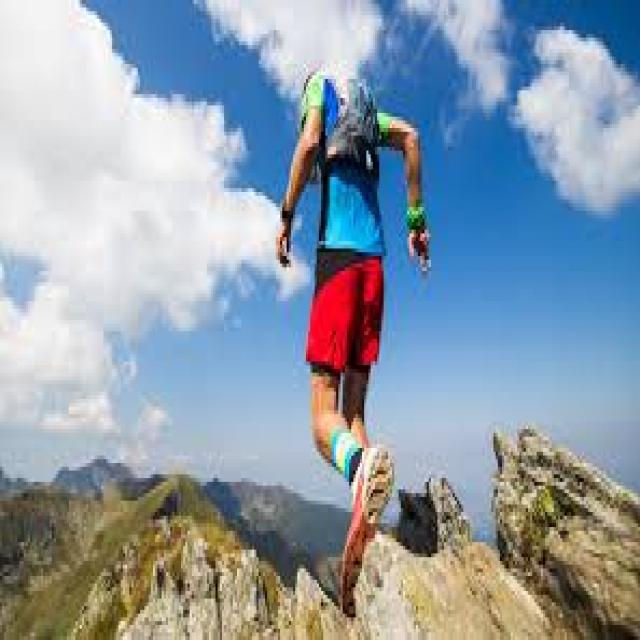running: (273, 65, 433, 618)
